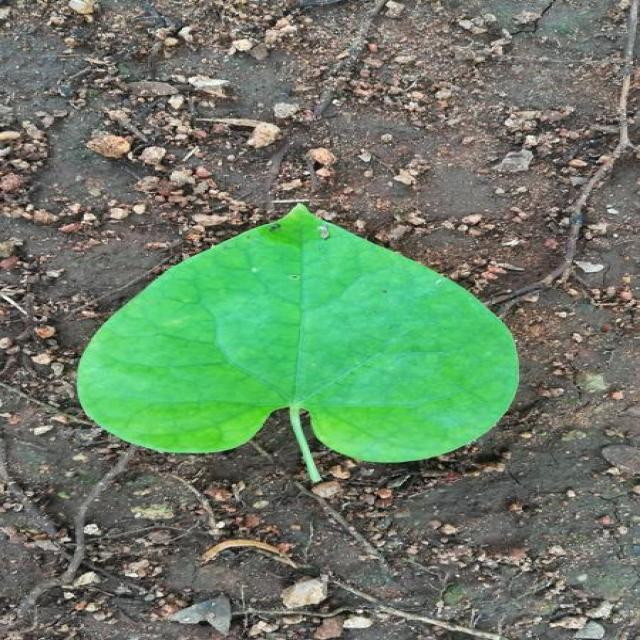Amruthaballi: (78, 205, 518, 482)
